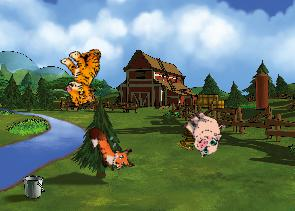fox: (85, 117, 138, 178)
pig: (175, 104, 231, 160)
tiger: (54, 43, 114, 108)
